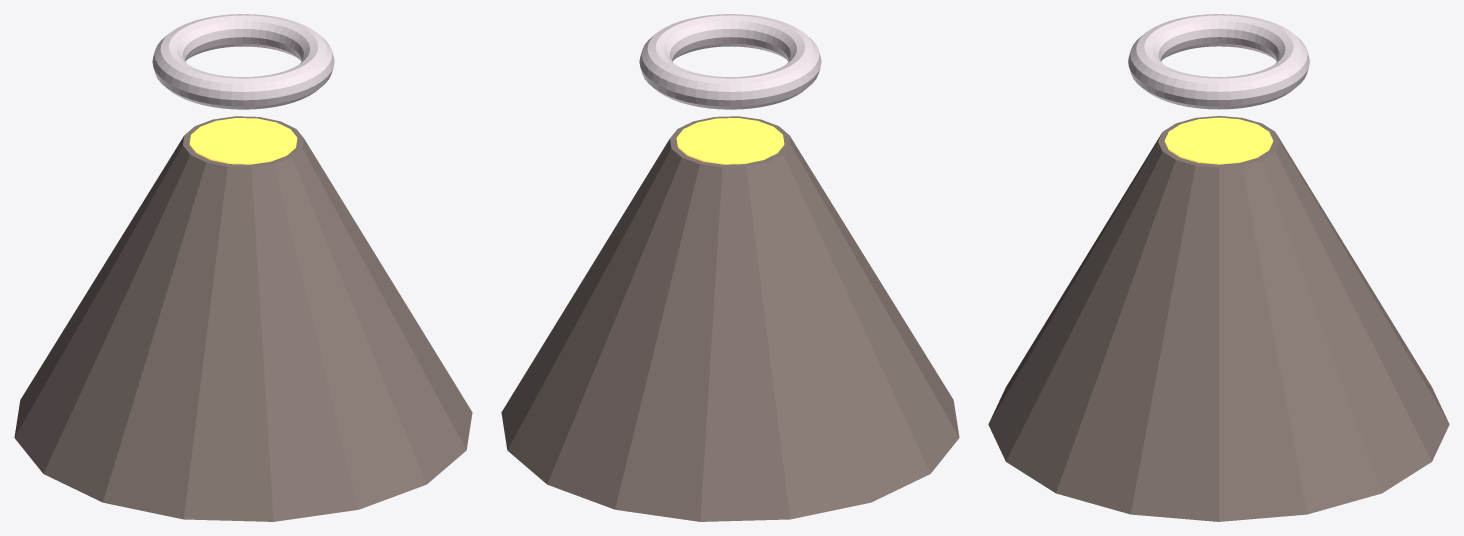
The model's file is volcano.glb.
The picture shows the model from 3 angles, left to right: view 1: azimuth 30°, elevation 25°; view 2: azimuth 150°, elevation 25°; view 3: azimuth 270°, elevation 25°; orthographic projection.
Visible parts, largest first — view 1: Vulkan, Vulkan_Rauchring, Vulkan_Lava_Core; view 2: Vulkan, Vulkan_Rauchring, Vulkan_Lava_Core; view 3: Vulkan, Vulkan_Rauchring, Vulkan_Lava_Core.
Boxes of the visible parts, bbox=[...] form: Vulkan: bbox=[14, 116, 472, 521]; Vulkan_Rauchring: bbox=[152, 14, 334, 109]; Vulkan_Lava_Core: bbox=[189, 118, 297, 164]; Vulkan: bbox=[501, 116, 959, 521]; Vulkan_Rauchring: bbox=[639, 14, 821, 109]; Vulkan_Lava_Core: bbox=[676, 118, 784, 164]; Vulkan: bbox=[988, 116, 1449, 521]; Vulkan_Rauchring: bbox=[1128, 14, 1309, 109]; Vulkan_Lava_Core: bbox=[1164, 117, 1273, 164].
Bounding box in the file's own units: 3.4 × 3.07 × 3.4.
